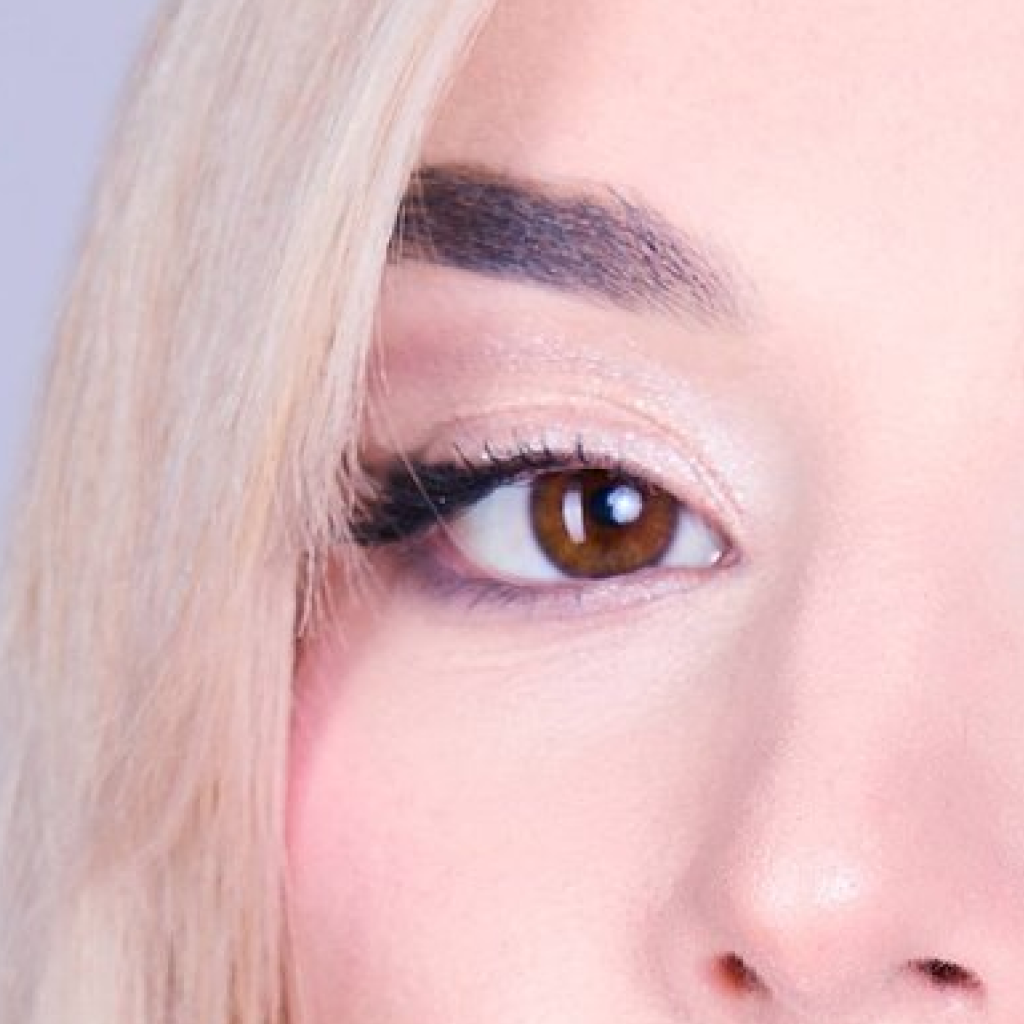iris: (533, 469, 677, 577)
pupil: (590, 482, 645, 529)
sclera: (442, 474, 563, 583), (662, 510, 729, 567)
